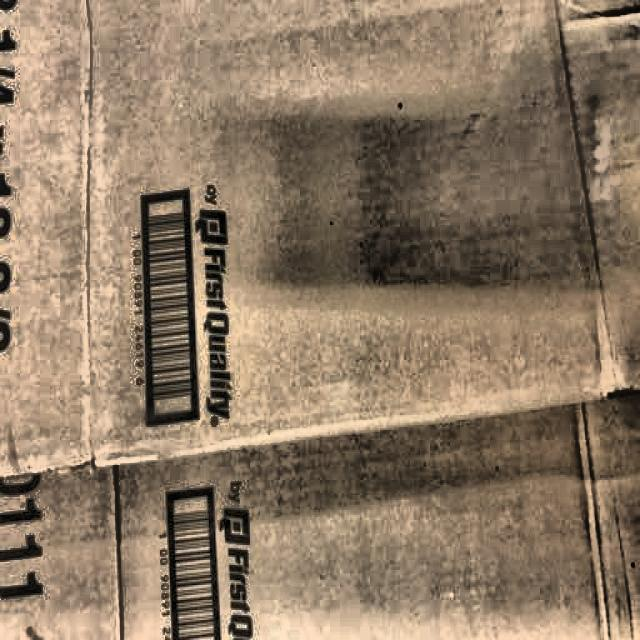cardboard: (0, 1, 619, 640)
